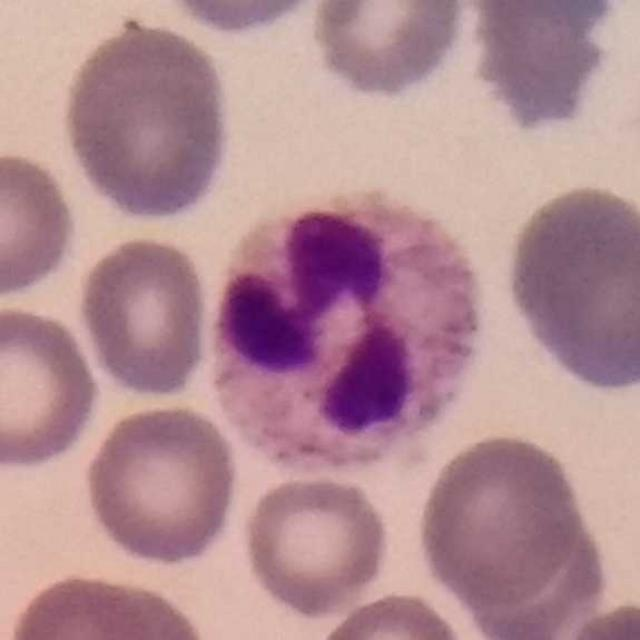Neutrophil: (203, 193, 502, 488)
RBC: (57, 13, 237, 225), (412, 429, 590, 612), (500, 179, 640, 396), (79, 399, 243, 570), (74, 232, 214, 400), (237, 471, 394, 620), (456, 497, 609, 640), (467, 0, 624, 128), (0, 301, 104, 474), (307, 0, 472, 104), (2, 567, 209, 640), (0, 146, 81, 305), (311, 587, 472, 640), (152, 0, 342, 38), (548, 596, 640, 640)
